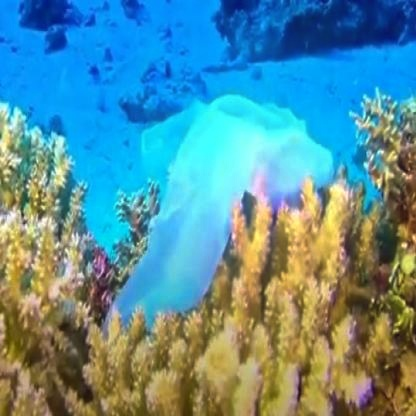plastic: (113, 101, 337, 314)
